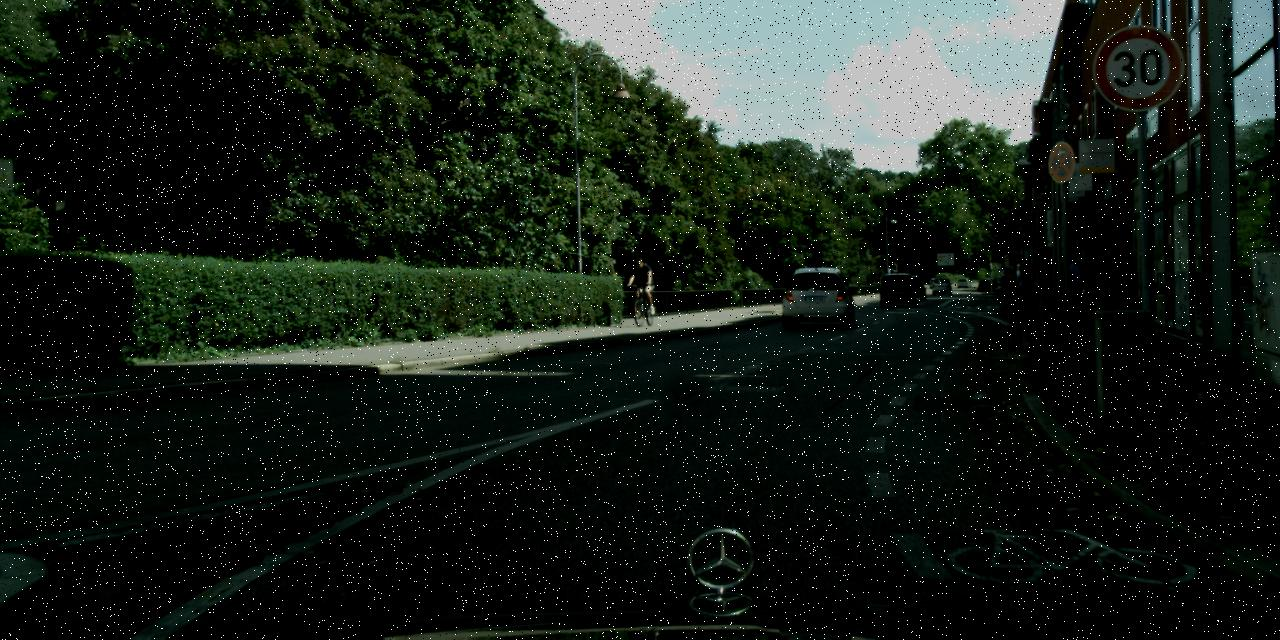ped: (1061, 256, 1086, 317), (630, 256, 652, 313), (1045, 262, 1066, 314), (1018, 270, 1028, 294), (1001, 276, 1006, 292)
